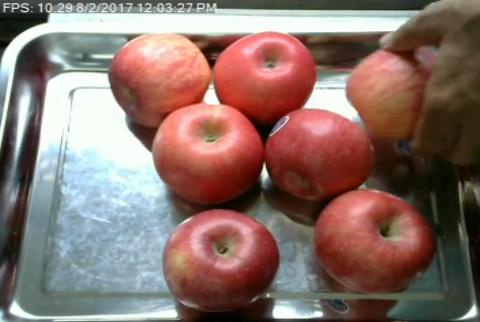apple: (313, 190, 437, 291), (164, 210, 279, 311), (152, 105, 262, 204), (265, 109, 372, 199), (110, 34, 208, 124), (215, 32, 314, 114), (347, 45, 427, 142)
